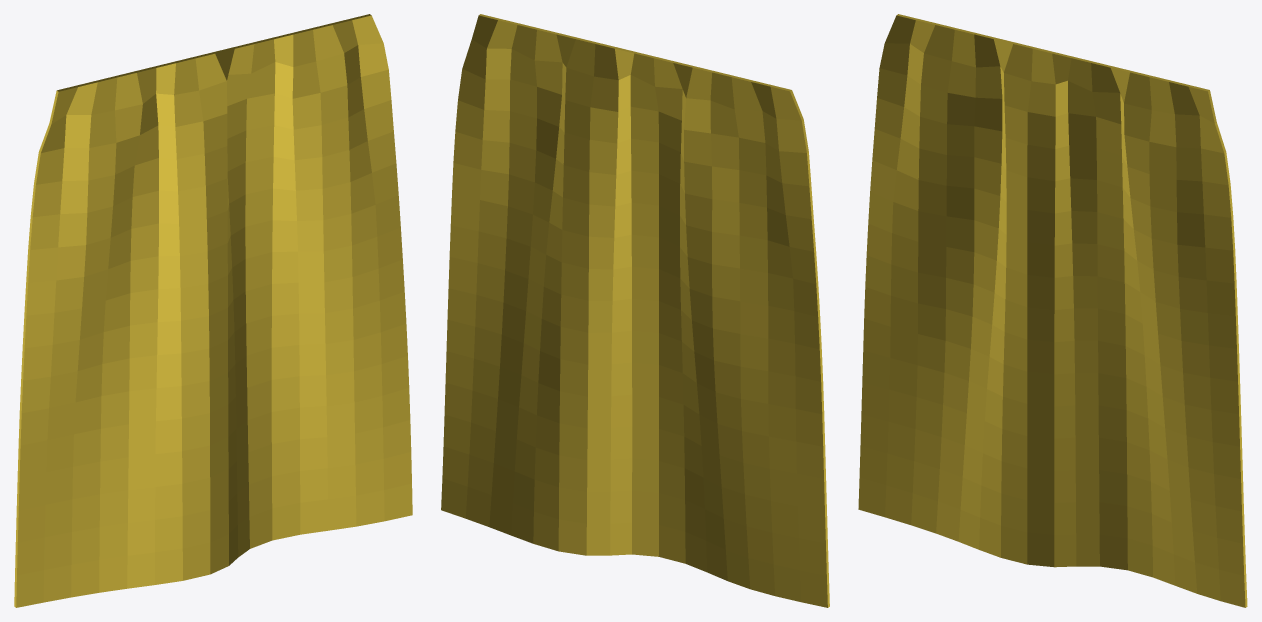
File: Curtain 3.fbx
3 views of the same model, side by side, from view 1: azimuth 30°, elevation 25°; view 2: azimuth 150°, elevation 25°; view 3: azimuth 330°, elevation 25° (orthographic).
Parts seen in each view (by area): view 1: Node 0; view 2: Node 0; view 3: Node 0.
Part boxes in pixels (x1,y1,x2,y2): Node 0: (14,14,412,607); Node 0: (441,14,829,607); Node 0: (858,14,1247,607).
Size of the model in its own units: 0.1202 by 1.58 by 1.27.
